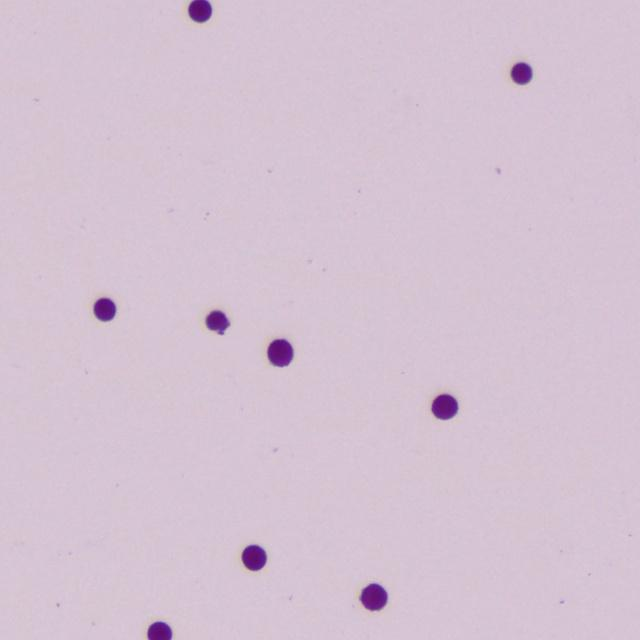viable: (267, 340, 293, 366), (361, 584, 386, 610), (432, 394, 457, 419), (242, 545, 266, 570), (207, 310, 229, 334), (511, 62, 532, 84), (188, 0, 209, 22), (95, 298, 115, 321), (148, 621, 172, 639)
